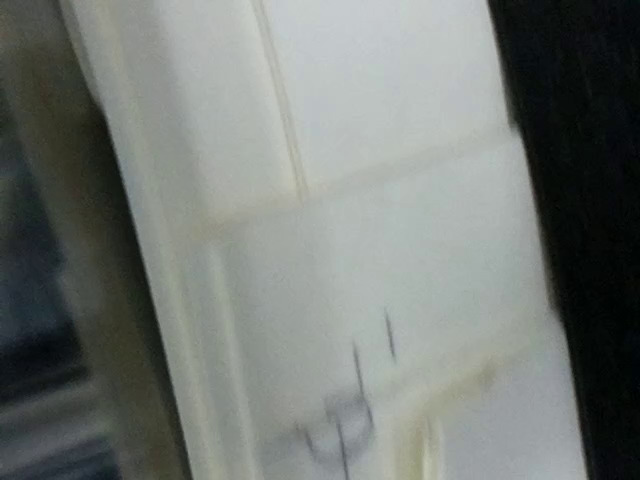not_sure: (288, 352, 384, 480)
